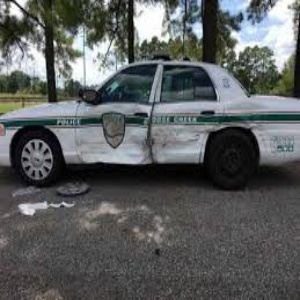door: (132, 124, 204, 169)
